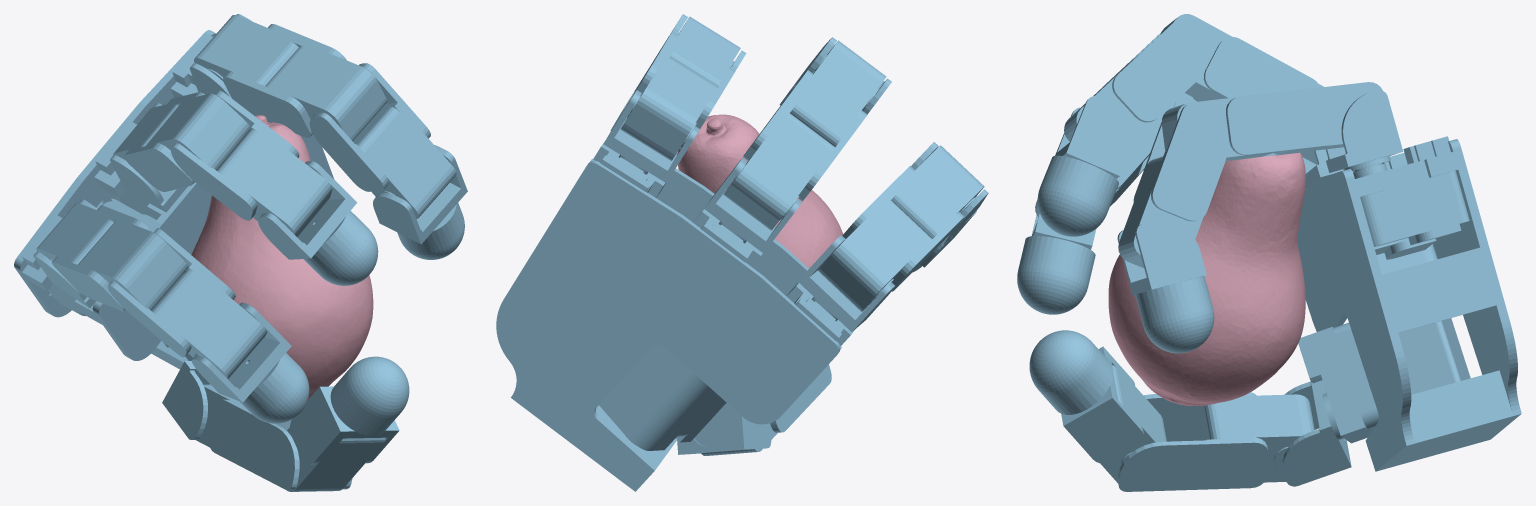
3 renders of one model, left to right at view 1: azimuth 30°, elevation 25°; view 2: azimuth 150°, elevation 25°; view 3: azimuth 270°, elevation 25°, orthographic. The views are drawn at different scales.
Parts seen in each view (by area): view 1: world, pear.stl; view 2: world, pear.stl; view 3: world, pear.stl.
Part boxes in pixels (x1=…): world: x1=14, y1=14, x2=467, y2=491; pear.stl: x1=184, y1=115, x2=373, y2=399; world: x1=496, y1=14, x2=988, y2=491; pear.stl: x1=677, y1=114, x2=843, y2=268; world: x1=1017, y1=14, x2=1521, y2=491; pear.stl: x1=1108, y1=152, x2=1305, y2=405.
Size of the model in its own units: 0.1517 by 0.1581 by 0.168.
